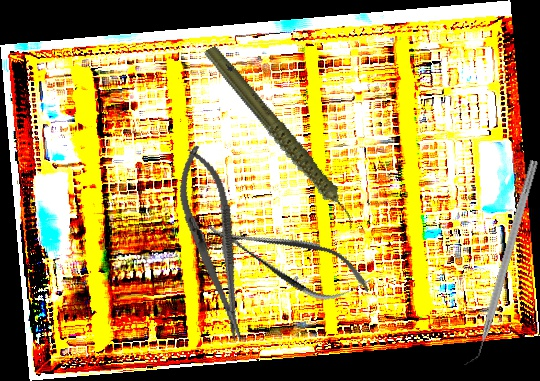Chopper: (459, 156, 539, 370)
Handpiece: (201, 23, 359, 255)
Micro Scissor: (200, 203, 378, 316)
Needle Holder: (168, 141, 260, 347)
